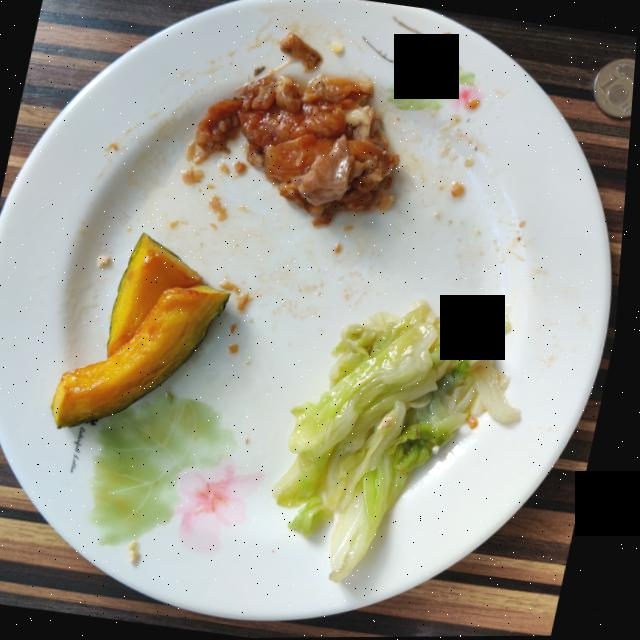Kabayaki sea bream fillet: (190, 76, 401, 227)
cabbage: (279, 299, 525, 583)
coin: (594, 59, 636, 119)
pumpkin: (57, 234, 233, 428)
